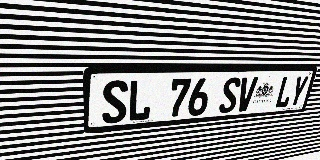6: (187, 78, 212, 116)
7: (166, 78, 192, 118)
L: (127, 79, 153, 122), (274, 76, 296, 108)
S: (102, 80, 128, 124), (218, 77, 242, 114)
V: (235, 77, 258, 112)
Y: (287, 76, 309, 107)
